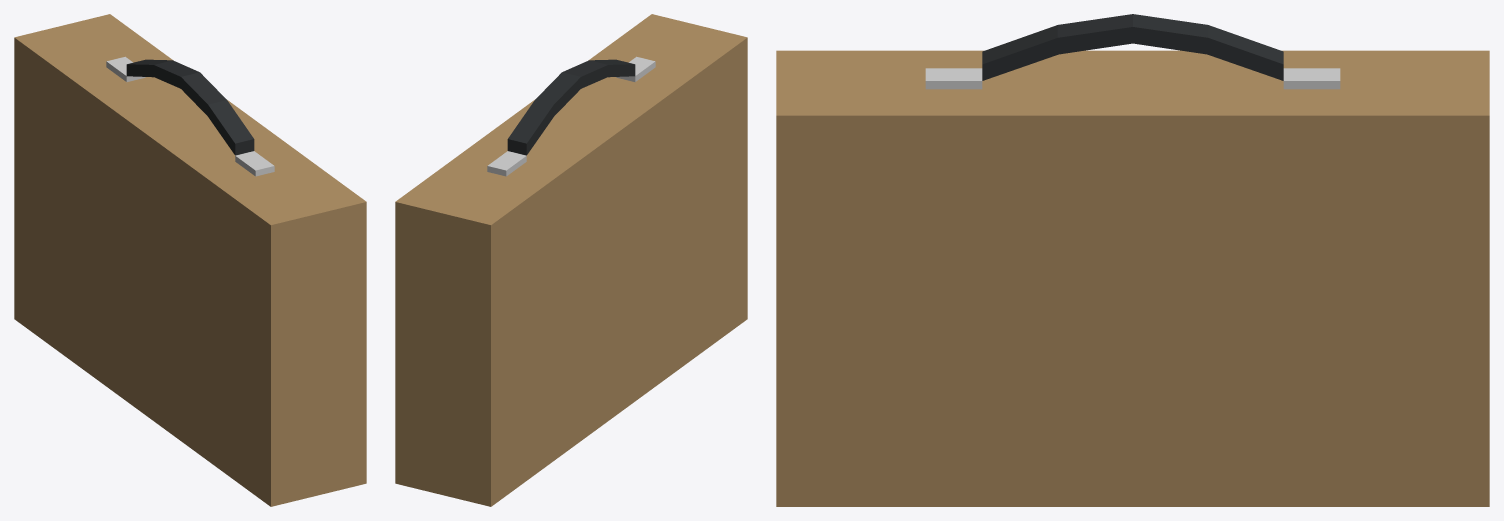
Rendered from Boïte_Pétanque.fbx.
The picture shows the model from 3 angles, left to right: view 1: azimuth 30°, elevation 25°; view 2: azimuth 150°, elevation 25°; view 3: azimuth 270°, elevation 25°; orthographic projection. The views are drawn at different scales.
Parts seen in each view (by area): view 1: Boïte_Pétanque; view 2: Boïte_Pétanque; view 3: Boïte_Pétanque.
Boxes of the visible parts, x1,y1,x2,y2 form: Boïte_Pétanque: (14, 14, 366, 506); Boïte_Pétanque: (395, 14, 747, 506); Boïte_Pétanque: (776, 14, 1489, 506).
Bounding box in the file's own units: 16.73 × 54.49 × 77.58.
1 material, 1 textured.
